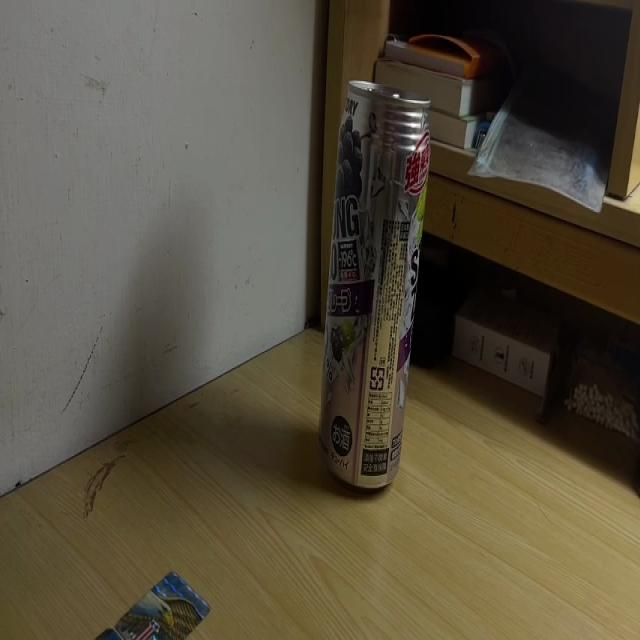Liquor: (319, 78, 433, 492)
